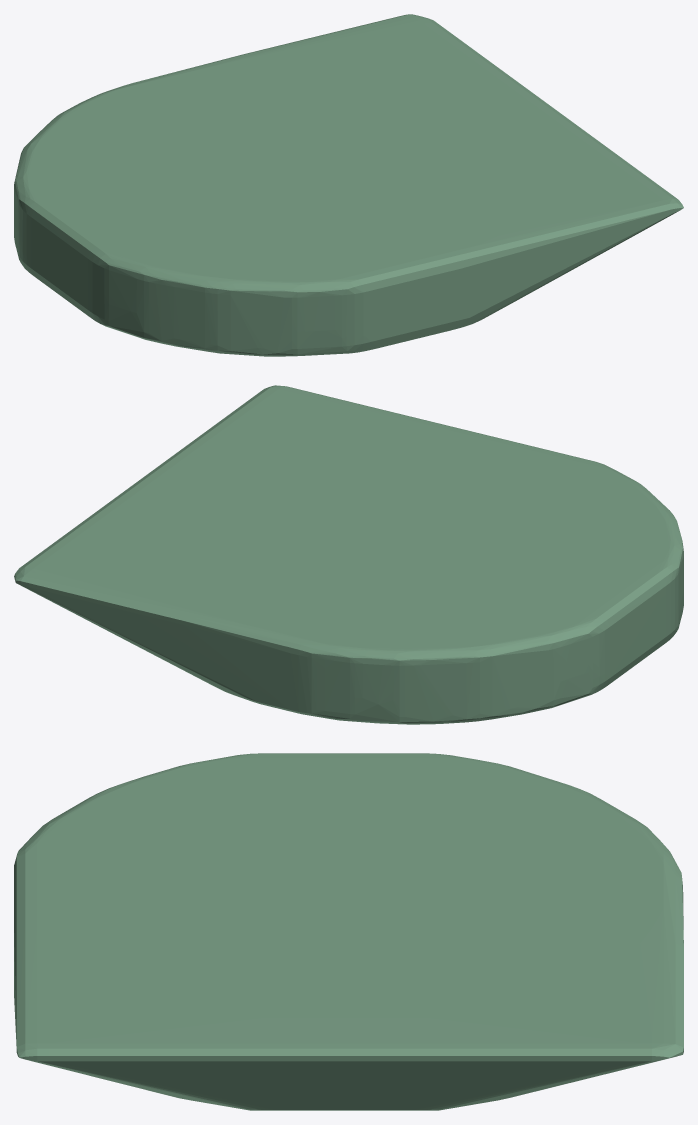
The model's file is left_knee_link_part_0.obj.
3 views of the same model, one above another, from view 1: azimuth 30°, elevation 25°; view 2: azimuth 150°, elevation 25°; view 3: azimuth 270°, elevation 25° (orthographic). The views are drawn at different scales.
Bounding box in the file's own units: 0.1036 × 0.0227 × 0.0966.
